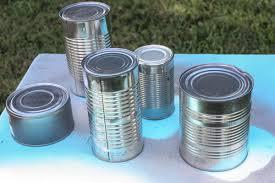Tin: (5, 0, 275, 174)
